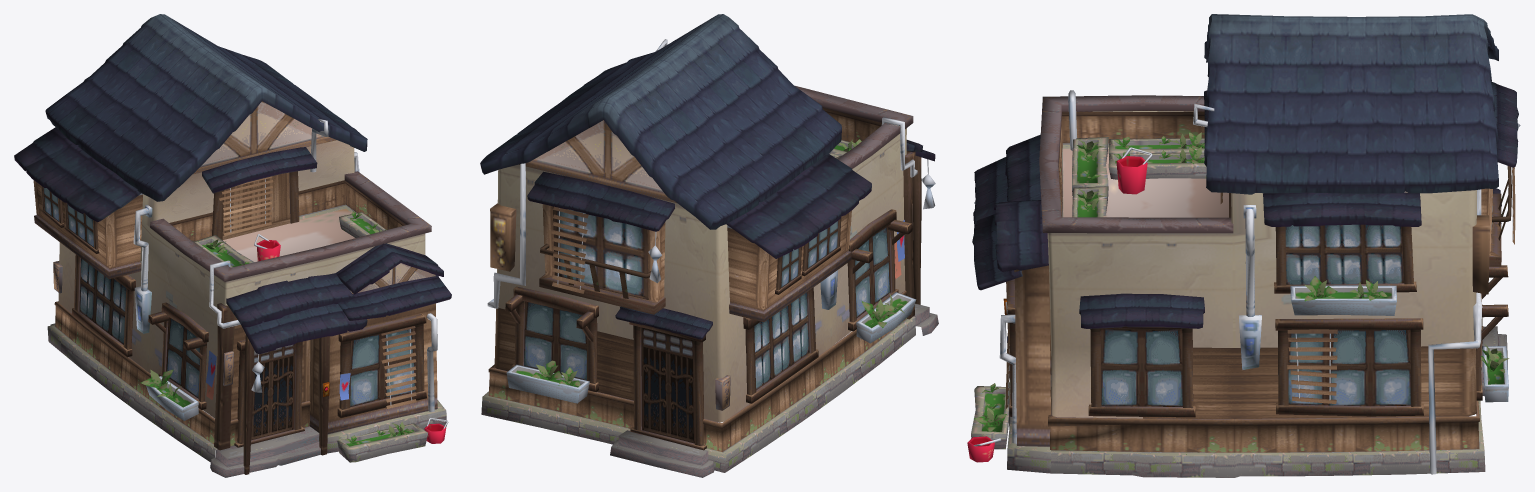
Rendered from hbxz_jz002_02.FBX.
3 views of the same model, side by side, from view 1: azimuth 30°, elevation 25°; view 2: azimuth 150°, elevation 25°; view 3: azimuth 270°, elevation 25° (orthographic). The views are drawn at different scales.
Parts seen in each view (by area): view 1: hbxz_jz002_02; view 2: hbxz_jz002_02; view 3: hbxz_jz002_02.
Boxes of the visible parts, <box> form: hbxz_jz002_02: <box>14,14,451,477</box>; hbxz_jz002_02: <box>480,14,938,477</box>; hbxz_jz002_02: <box>967,14,1520,477</box>.
Bounding box in the file's own units: 489 × 512 × 655.
Materials: 3 (3 with a texture image).
